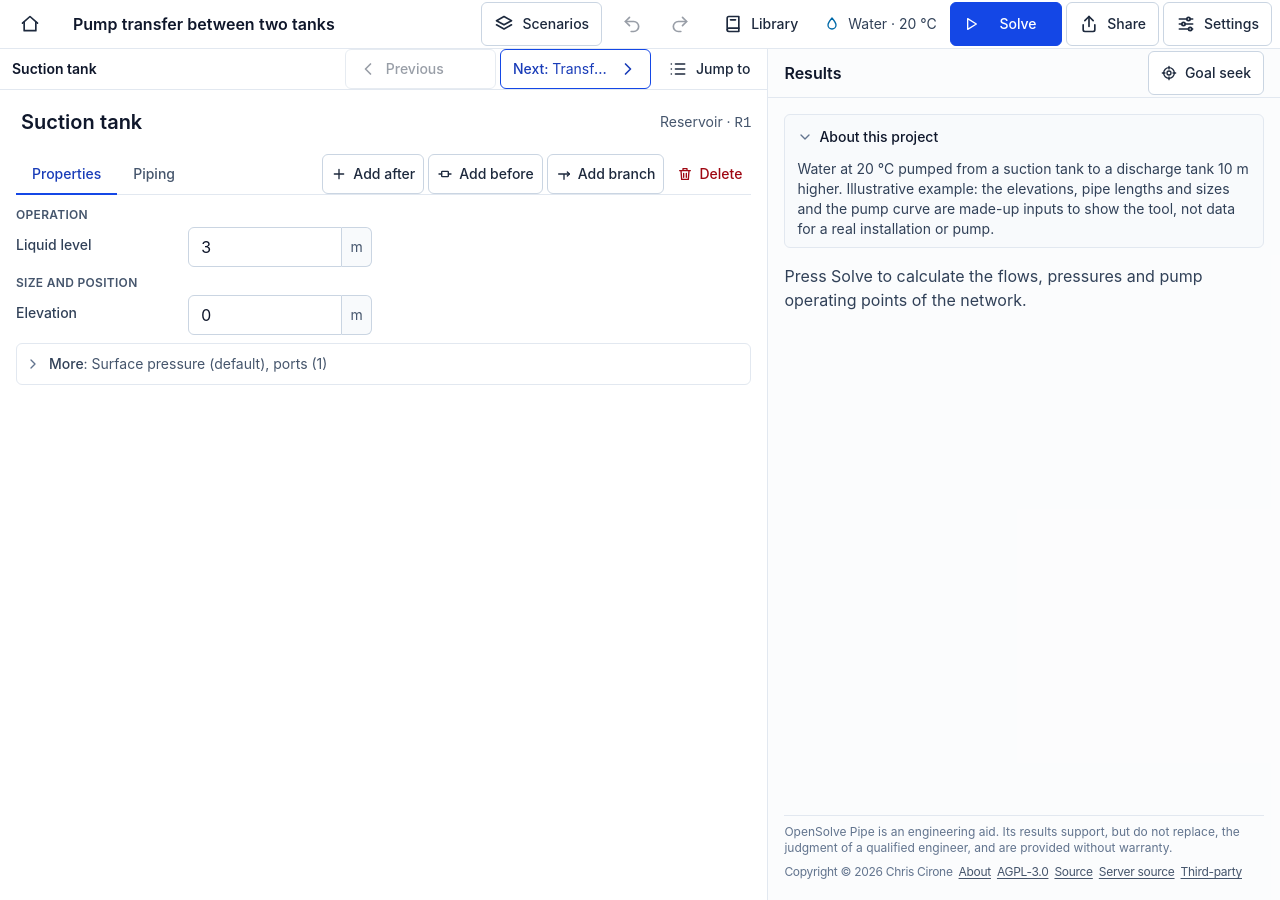
Test: a project without scenarios › has no case bar, no case tabs and a plain Solve; the Scenarios button opens the manager
Check: the element "Case" is not shown
Check: the button "Solve" is shown, box [950, 2, 1062, 46]
Click the button "Scenarios" at (542, 24), box [481, 2, 602, 46]
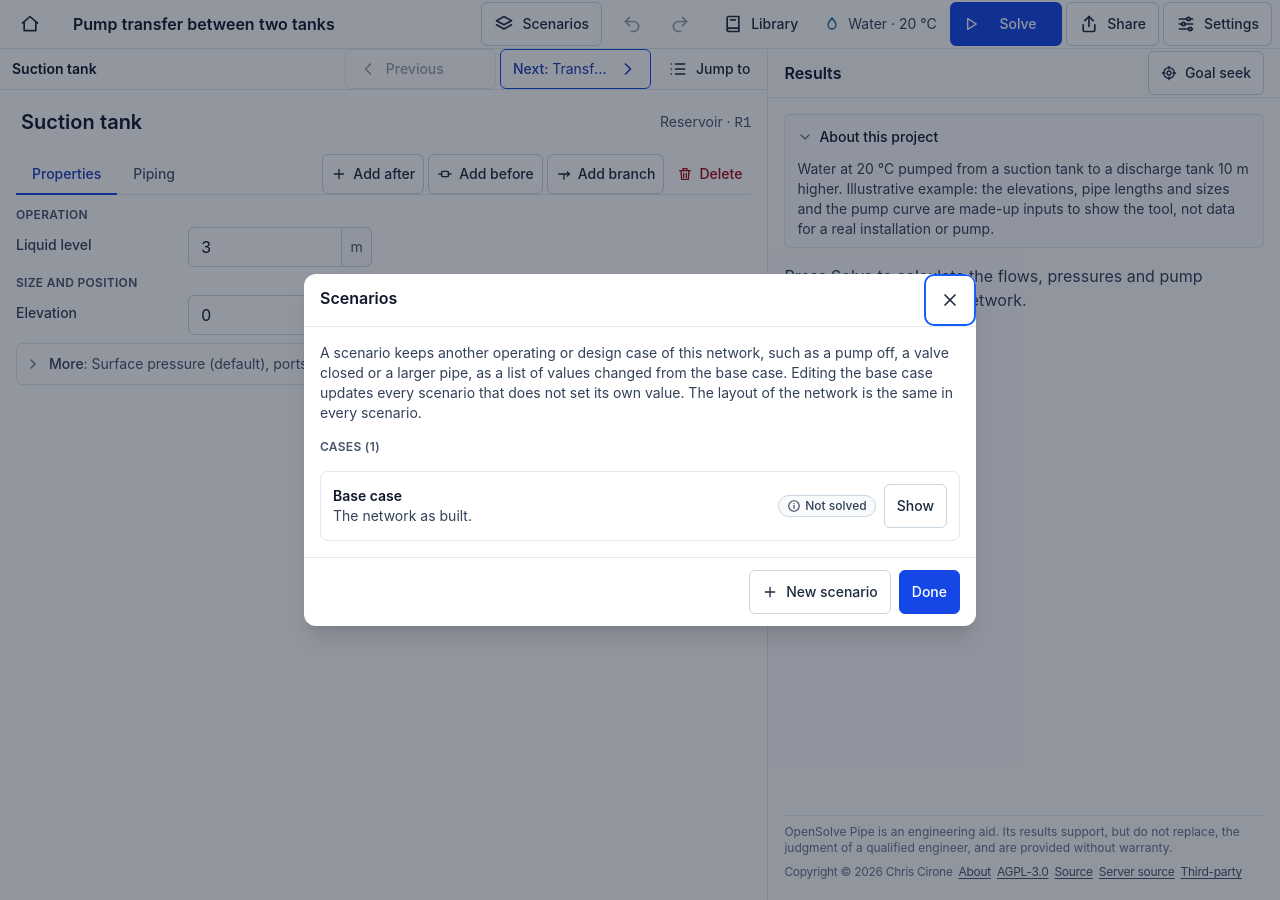
Check: the text "The network as built." is shown, box [333, 507, 472, 524]
